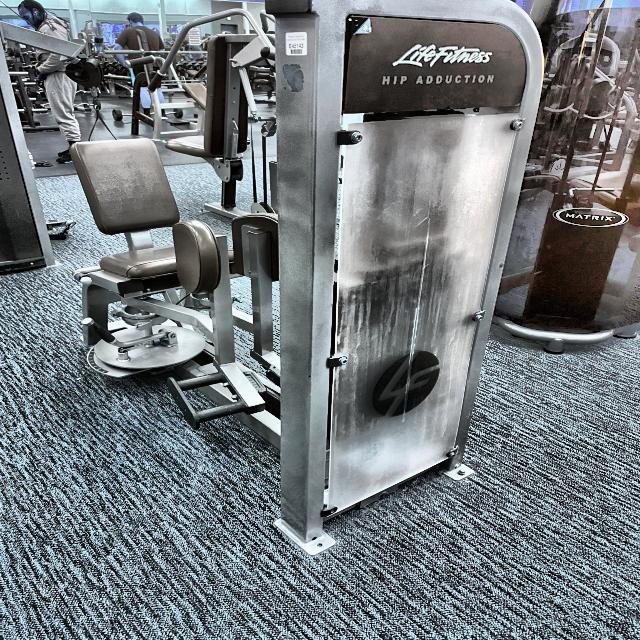hip_adduction_machine: (65, 98, 256, 440), (376, 62, 506, 112)
